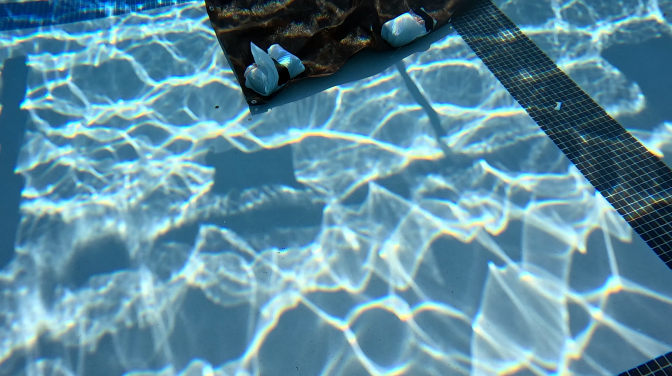sandbag: (205, 0, 481, 104)
